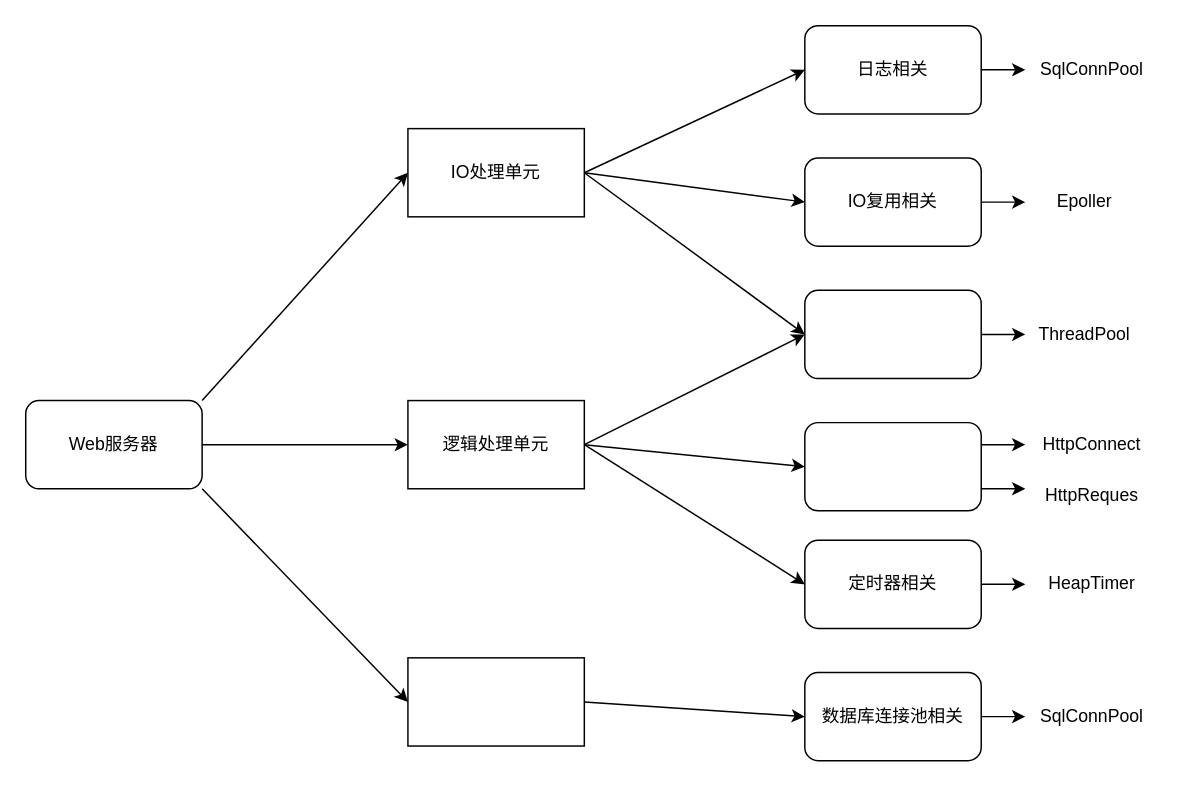
This 1183x786 diagram has some shape labels left out. Each missing label, with the centre of its shape:
HTTP相关: the point at 892,466
数据库存储单元: the point at 495,701
线程池相关: the point at 892,334
